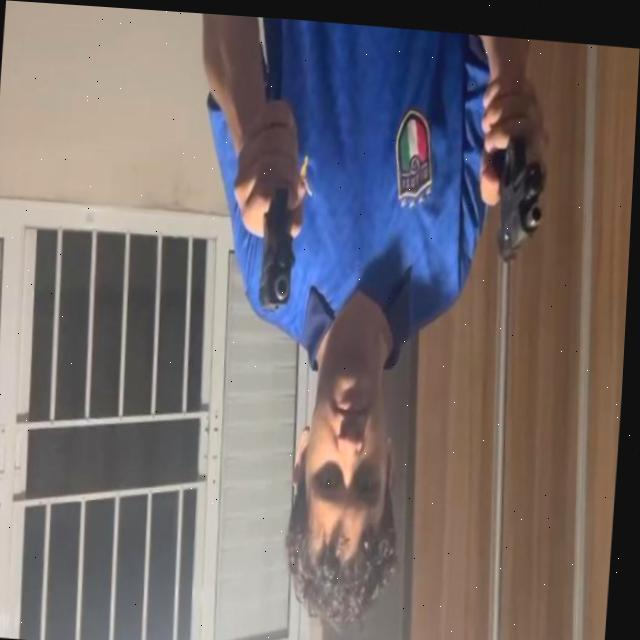gun: (494, 127, 554, 265), (256, 178, 308, 318)
